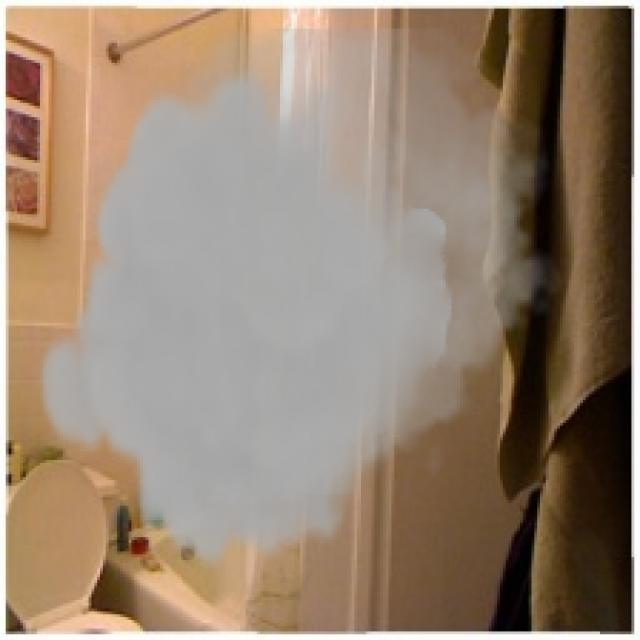Smoke: (34, 29, 566, 572)
